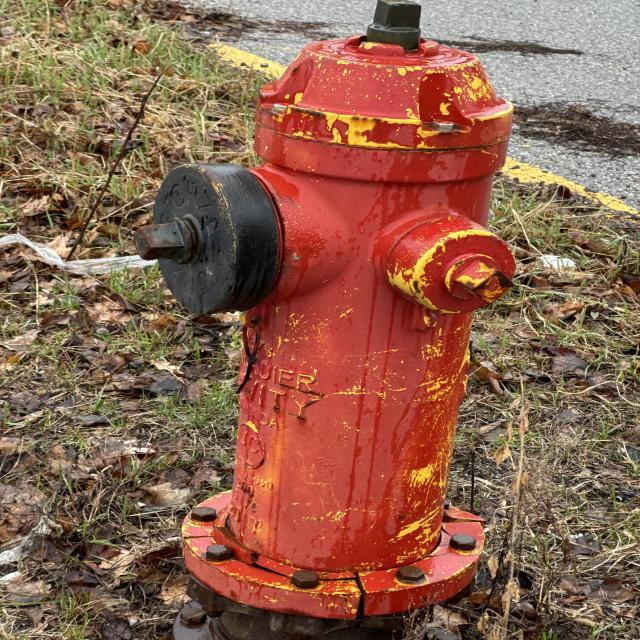Fire hydrant: (132, 1, 526, 624)
